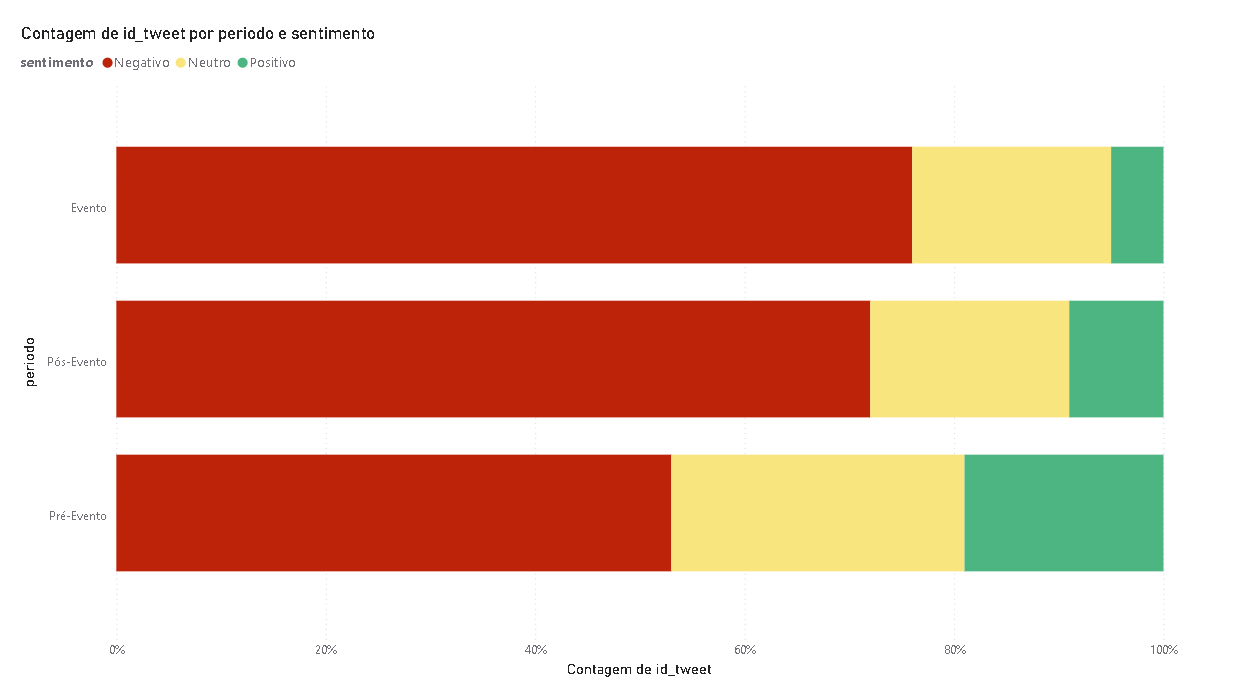

What the dashboard file says about the page in this screenshot:
{"tool":"powerbi","page":{"name":"Distribuição de Sentimentos por Período","canvas":[1280,720],"ordinal":1},"visuals":[{"type":"hundredPercentStackedBarChart","fields":{"Category":["Sentimentos.periodo"],"Y":["CountNonNull(Sentimentos.id_tweet)"],"Series":["Sentimentos.sentimento"]},"box":[41.2,31.6,1160.9,655.9],"z":0}]}

Visuals, with their boxes in screenshot pixels (x1, y1, x2, y2), scaled from the page's 1280x720 canvas onto the 1239x695 screenshot:
hundredPercentStackedBarChart - Sentimentos.periodo x CountNonNull(Sentimentos.id_tweet): 40/31/1164/664
